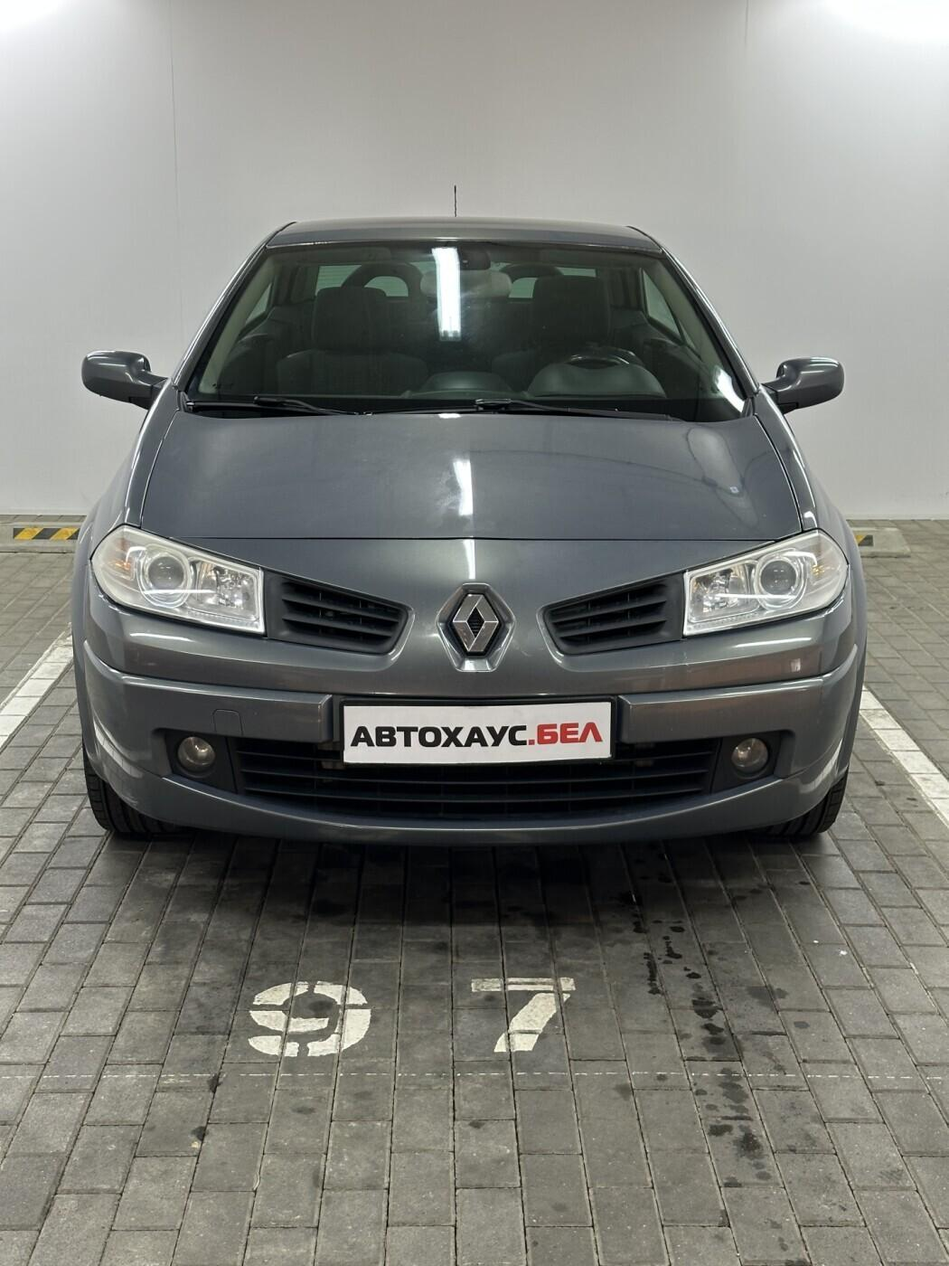Megane_2005-2009: (61, 208, 873, 915)
